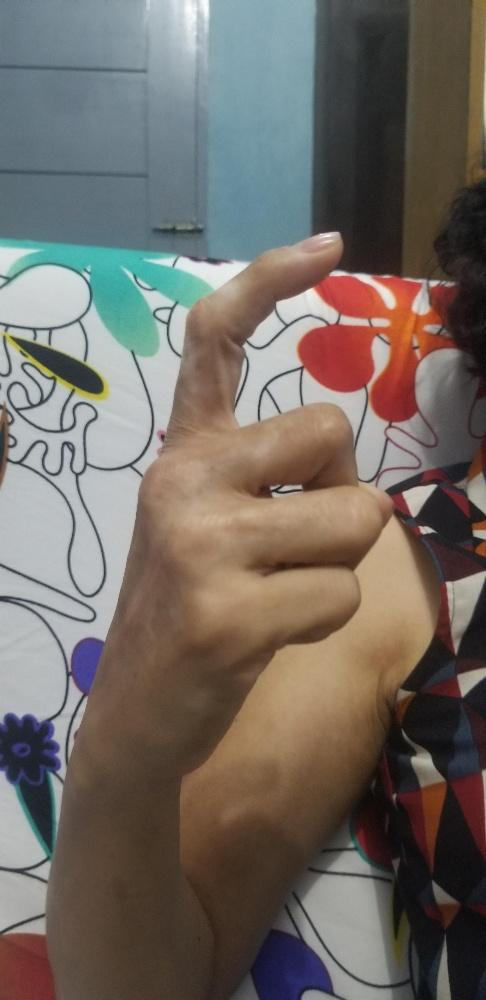x: (64, 227, 393, 772)
